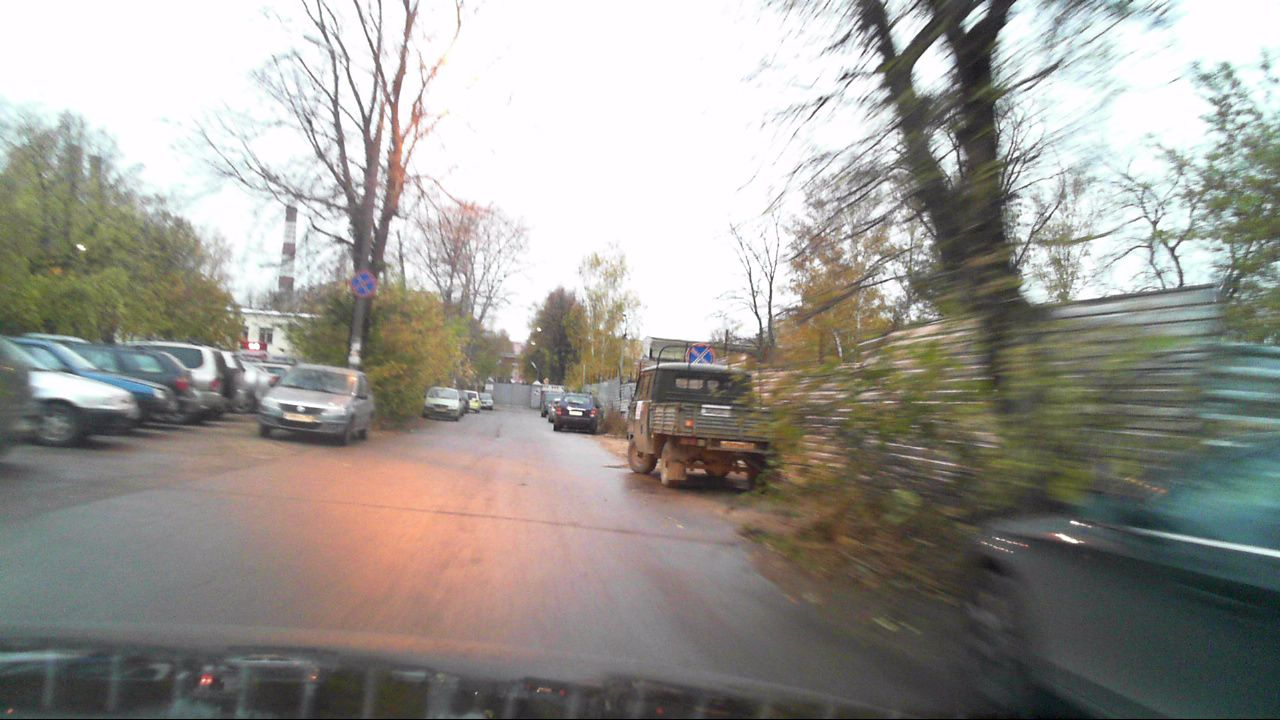No Parking: (684, 343, 715, 372)
